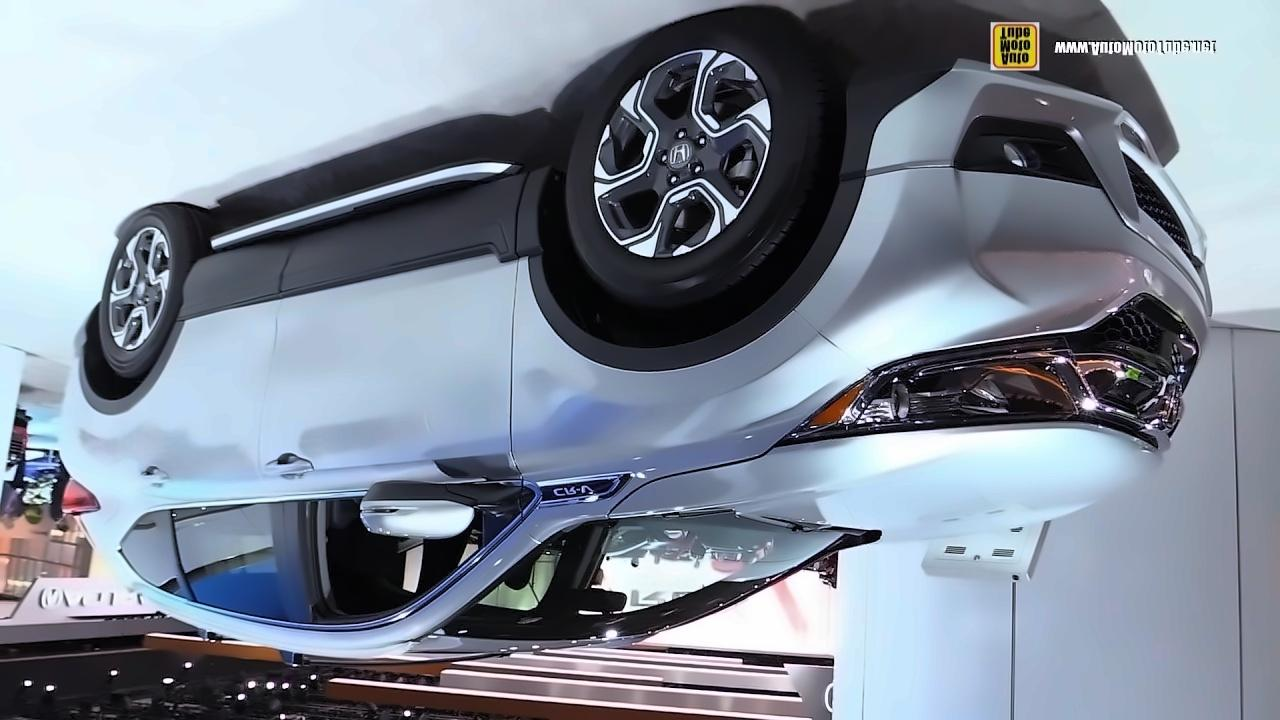Car hood: (604, 414, 1180, 547)
Fender - -F-L-: (509, 229, 877, 537)
Fender - -R-L-: (57, 250, 187, 537)
Front bumper: (827, 42, 1227, 362)
Headlight - -L-: (777, 327, 1101, 483)
Passenger-s door - -F-L-: (264, 249, 545, 663)
Passenger-s door - -R-L-: (122, 289, 269, 654)
Rear bumper: (24, 307, 125, 415)
Rear light - -L-: (44, 465, 112, 525)
Side bumper - -L-: (160, 165, 551, 322)
Side mirror - -L-: (349, 464, 491, 553)
